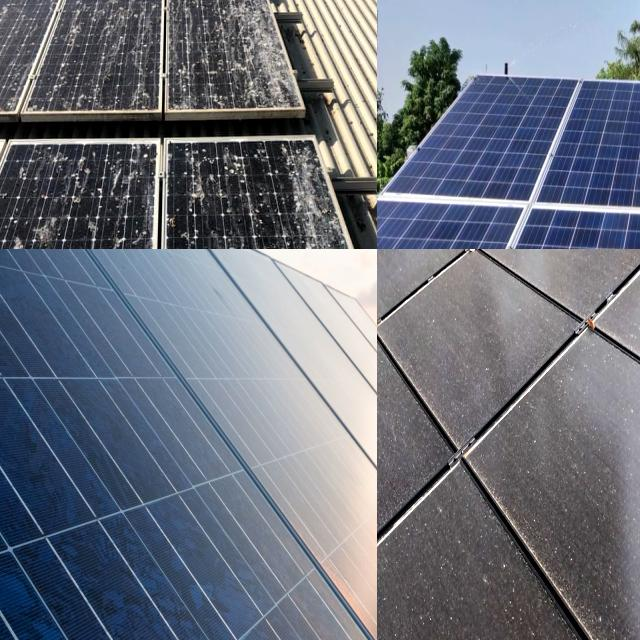bird: (22, 142, 144, 206), (239, 172, 308, 249), (0, 151, 49, 240), (226, 0, 273, 60), (184, 55, 234, 95), (71, 219, 136, 249), (3, 218, 60, 249), (139, 0, 155, 109)
crack: (0, 363, 180, 640), (66, 494, 367, 640), (422, 68, 570, 198), (550, 68, 640, 249)
dust: (516, 403, 640, 545), (411, 509, 496, 640), (444, 261, 496, 434), (377, 351, 420, 555)
